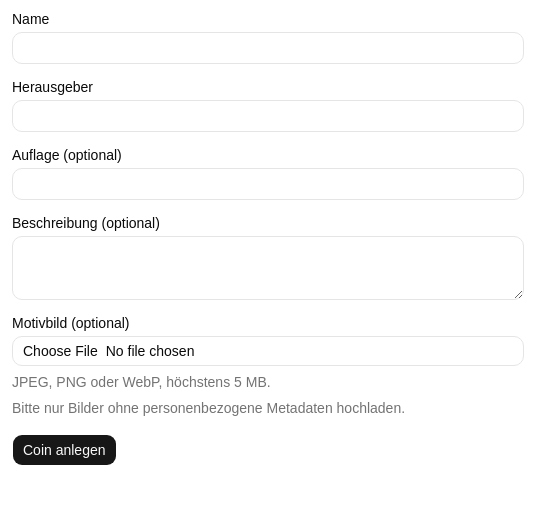
Test: AK-33: 403 mit code › zeigt bei benutzer_deaktiviert nicht den Text für fehlende Berechtigung
The width and height of the screenshot is (544, 523).
Step 1. Type "Coin Alpha" into the field labelled "Name" → point(268, 48), box [12,32,524,64]
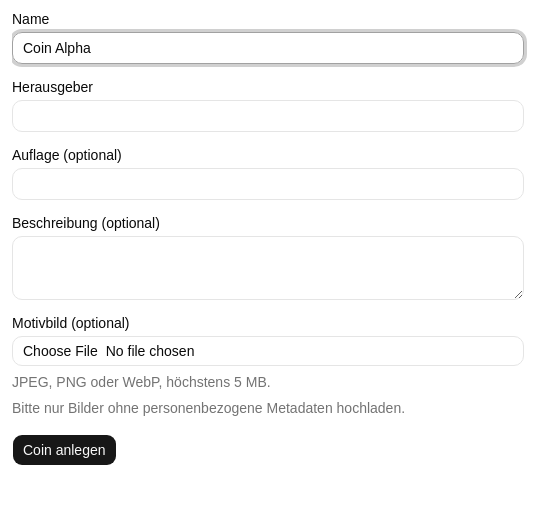
Step 2. Type "Herausgeber Beta" into the field labelled "Herausgeber" → point(268, 116), box [12,100,524,132]
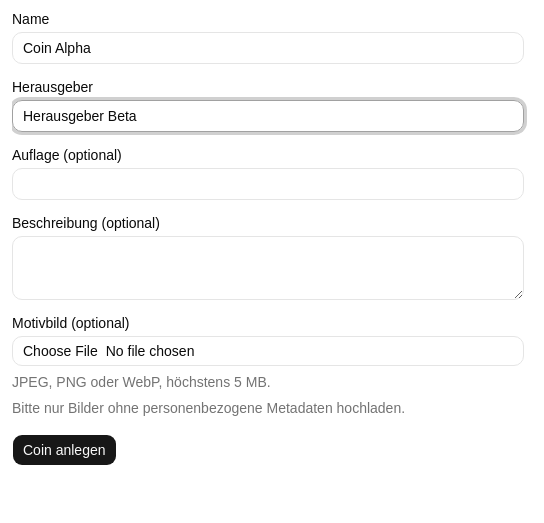
Step 3. Click the button "Coin anlegen" → point(64, 450), box [12,434,116,466]
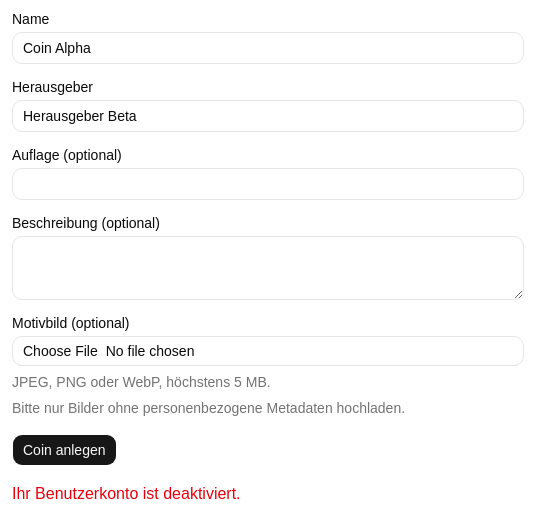
Expected: the text "Ihr Benutzerkonto ist deaktiviert." is shown, [12,482,241,506]
